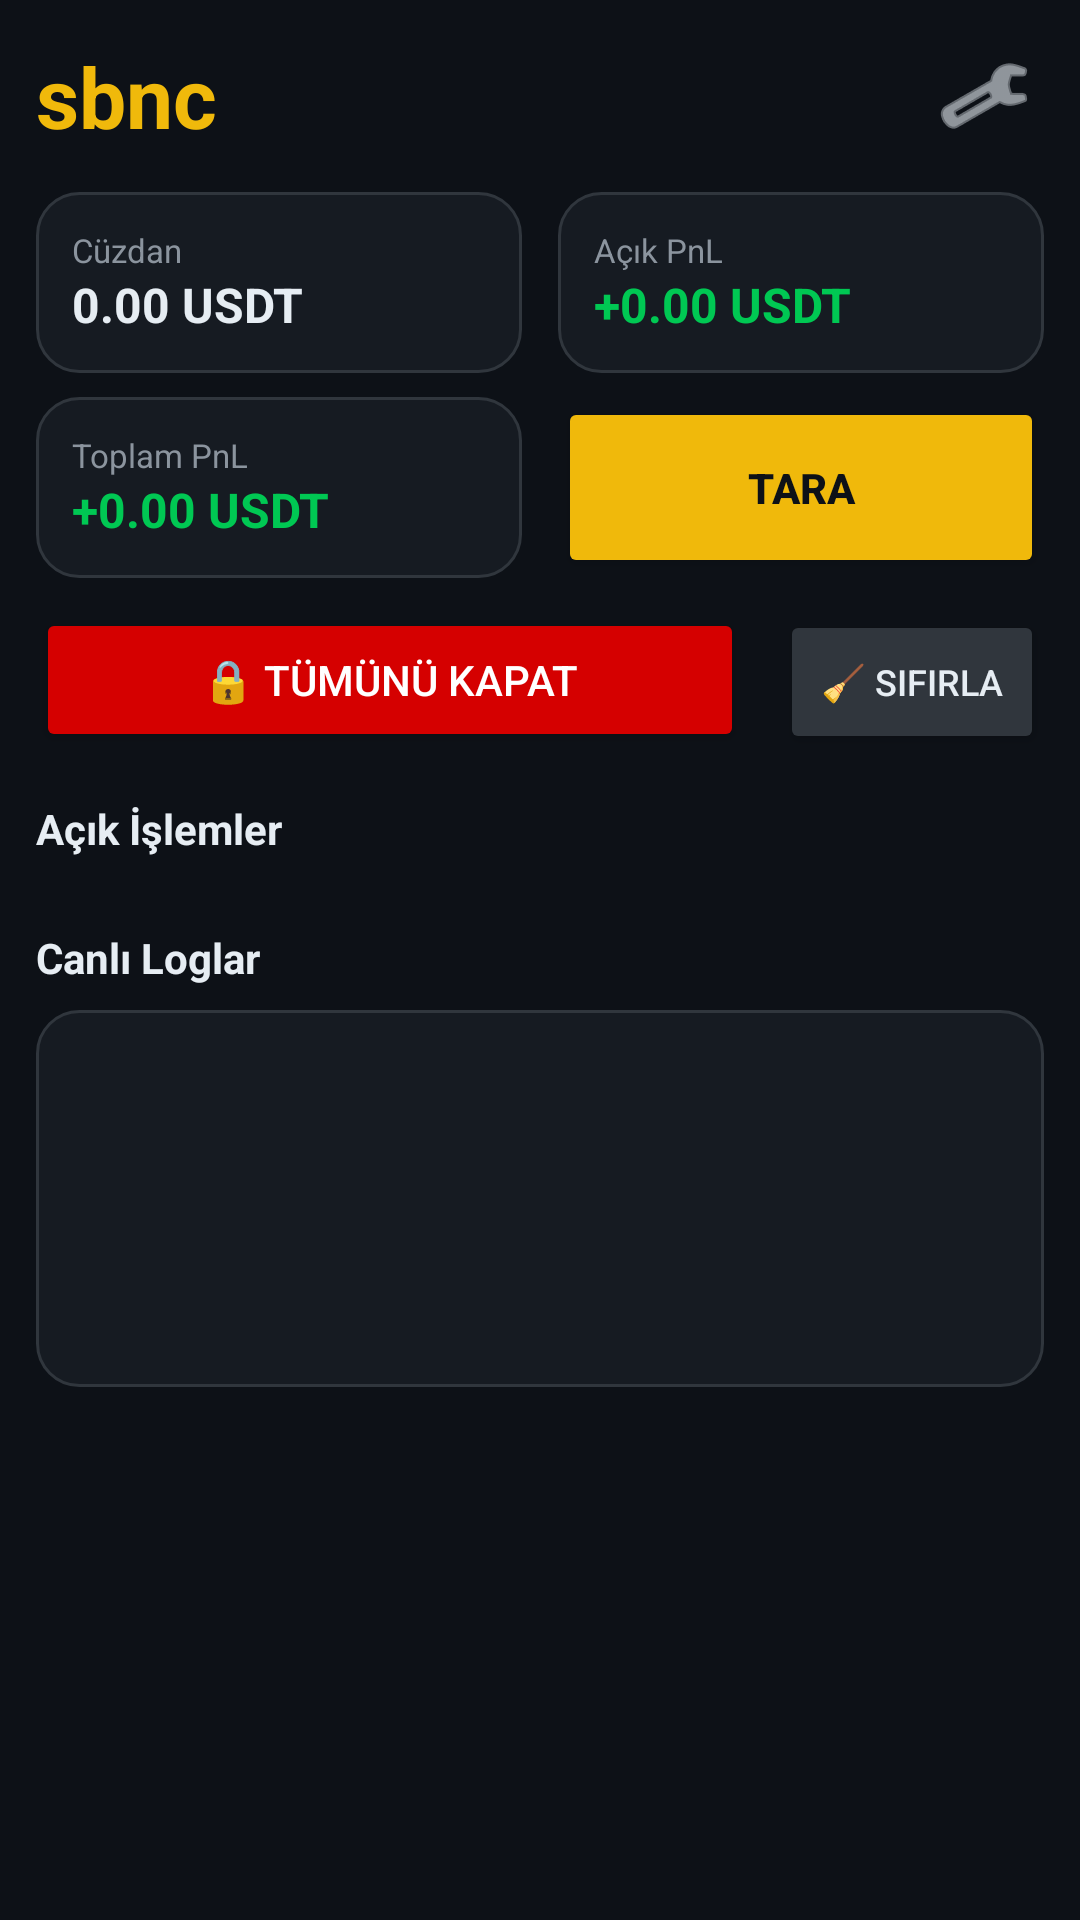

Named icons in this screenshot (1080w x 1920h) and their bounding boxes, box=[x1, y1, x2, y2]:
preferences: box=[941, 63, 1027, 129]
